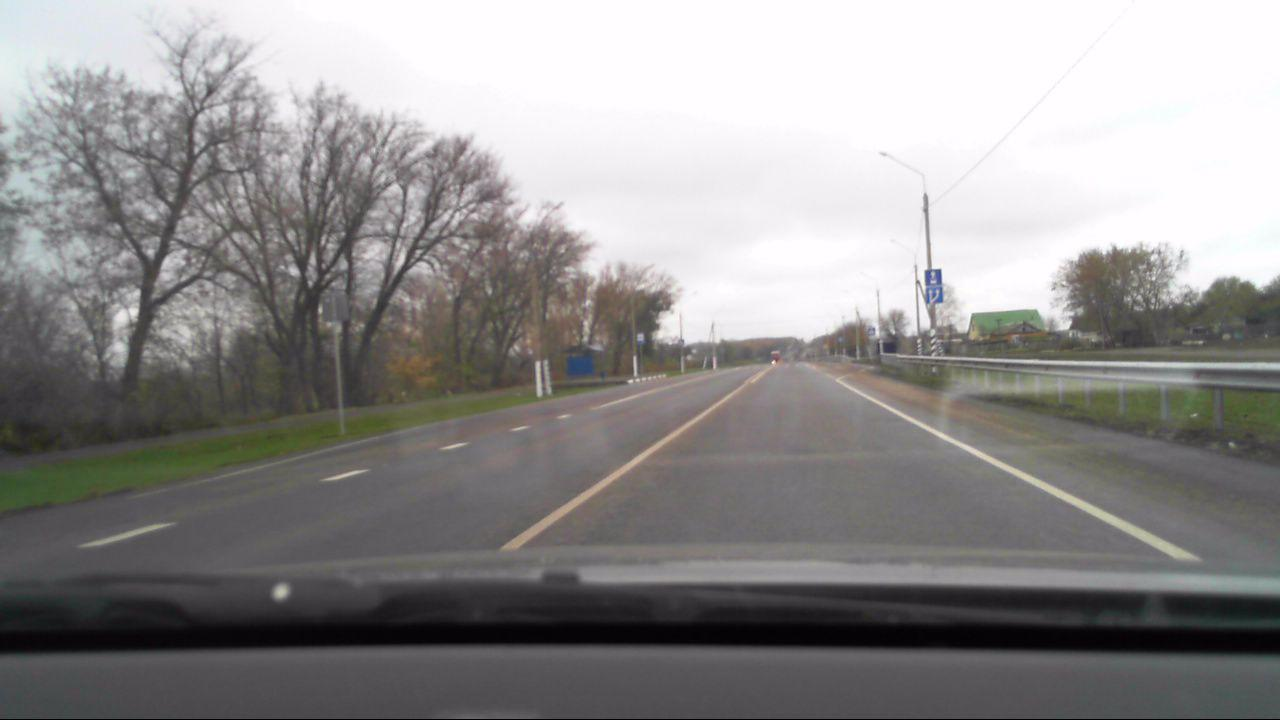5_14_1: (925, 268, 942, 287)
5_15_3: (923, 286, 943, 303)
